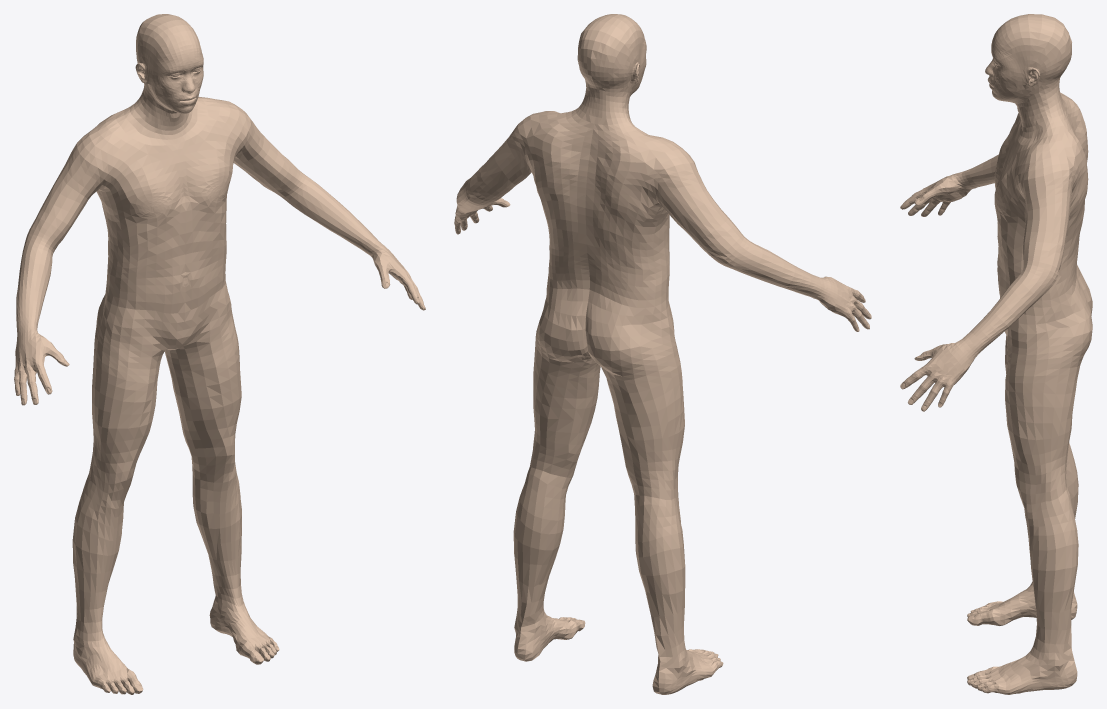
File: male-young-heavy-medium.glb
3 renders of one model, left to right at view 1: azimuth 30°, elevation 25°; view 2: azimuth 150°, elevation 25°; view 3: azimuth 270°, elevation 25°, orthographic.
Parts seen in each view (by area): view 1: world; view 2: world; view 3: world.
Boxes of the visible parts, box(x1,y1,x2,y2) form: world: box(14, 14, 425, 694); world: box(454, 14, 871, 694); world: box(900, 14, 1092, 694).
Bounding box in the file's own units: 1.26 × 1.92 × 0.5252.
